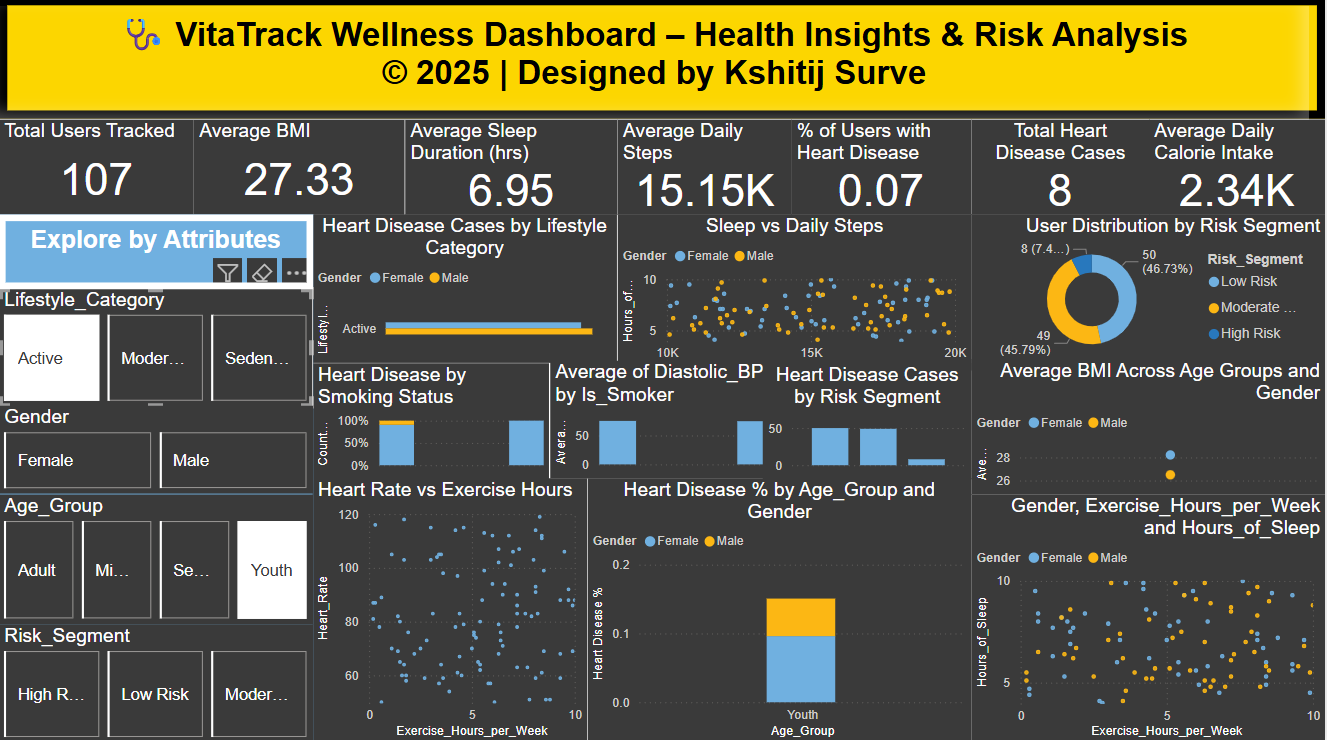

The page's visual inventory and layout, read from the dashboard file:
{"tool":"powerbi","page":{"name":"Page 1","canvas":[1280,720],"ordinal":0},"visuals":[{"type":"card","title":"Total Users Tracked","fields":{"Values":["health_activity_data.Total Users"]},"box":[0,118.3,188.3,91.7],"z":0},{"type":"card","title":"Average BMI","fields":{"Values":["health_activity_data.Average BMI"]},"box":[188.3,118.3,203.3,91.7],"z":1000},{"type":"card","title":"Average Sleep Duration (hrs)","fields":{"Values":["health_activity_data.Average Sleep"]},"box":[391.7,118.3,205,91.7],"z":2000},{"type":"card","title":"Average Daily Steps","fields":{"Values":["health_activity_data.Average Steps"]},"box":[596.7,118.3,168.3,91.7],"z":3000},{"type":"card","title":"Total Heart Disease Cases","fields":{"Values":["health_activity_data.Heart Disease Cases"]},"box":[938.3,118.3,171.7,91.7],"z":4000},{"type":"card","title":"% of Users with Heart Disease","fields":{"Values":["health_activity_data.Heart Disease %"]},"box":[765,118.3,173.3,91.7],"z":5000},{"type":"card","title":"Average Daily Calorie Intake","fields":{"Values":["health_activity_data.Average Calories"]},"box":[1110,118.3,170,91.7],"z":6000},{"type":"scatterChart","title":"Sleep vs Daily Steps","fields":{"X":["health_activity_data.Daily_Steps"],"Y":["health_activity_data.Hours_of_Sleep"],"Series":["health_activity_data.Gender"]},"box":[596.7,210,341.7,150],"z":7000},{"type":"scatterChart","fields":{"X":["health_activity_data.Exercise_Hours_per_Week"],"Y":["health_activity_data.Hours_of_Sleep"],"Series":["health_activity_data.Gender"]},"box":[938.3,480,341.7,240],"z":8000},{"type":"clusteredBarChart","title":"Heart Disease Cases by Lifestyle Category","fields":{"Series":["health_activity_data.Gender"],"Y":["CountNonNull(health_activity_data.Has_Heart_Disease)"],"Category":["health_activity_data.Lifestyle_Category"]},"box":[303.3,210,293.3,143.3],"z":9000},{"type":"columnChart","fields":{"Y":["health_activity_data.Heart Disease %"],"Category":["health_activity_data.Age_Group"],"Series":["health_activity_data.Gender"]},"box":[568.3,465,370,255],"z":10000},{"type":"hundredPercentStackedColumnChart","title":"Heart Disease by Smoking Status","fields":{"Category":["health_activity_data.Is_Smoker"],"Y":["CountNonNull(health_activity_data.Has_Heart_Disease)"],"Series":["health_activity_data.Has_Heart_Disease"]},"box":[303.3,353.3,228.3,111.7],"z":11000},{"type":"clusteredColumnChart","fields":{"Category":["health_activity_data.Is_Smoker"],"Y":["Avg(health_activity_data.Diastolic_BP)"]},"box":[531.7,351.7,221.7,113.3],"z":13000},{"type":"donutChart","title":"User Distribution by Risk Segment","fields":{"Category":["health_activity_data.Risk_Segment"],"Y":["CountNonNull(health_activity_data.ID)"]},"box":[938.3,210,341.7,143.3],"z":14000},{"type":"lineChart","title":"Average BMI Across Age Groups and Gender","fields":{"Category":["health_activity_data.Age_Group"],"Y":["health_activity_data.Average BMI"],"Series":["health_activity_data.Gender"]},"box":[938.3,350,341.7,130],"z":15000},{"type":"columnChart","title":"Heart Disease Cases by Risk Segment","fields":{"Category":["health_activity_data.Risk_Segment"],"Y":["CountNonNull(health_activity_data.Has_Heart_Disease)"]},"box":[736.7,353.3,201.7,111.7],"z":16000},{"type":"scatterChart","title":"Heart Rate vs Exercise Hours","fields":{"X":["health_activity_data.Exercise_Hours_per_Week"],"Y":["health_activity_data.Heart_Rate"]},"box":[303.3,465,265,255],"z":17000},{"type":"shape","box":[0,210,303.3,510],"z":21500},{"type":"shape","box":[0,0,1280,117.5],"z":22000},{"type":"advancedSlicerVisual","fields":{"Values":["health_activity_data.Lifestyle_Category"]},"box":[0,281.4,302.9,114.3],"z":22500},{"type":"advancedSlicerVisual","fields":{"Values":["health_activity_data.Gender"]},"box":[0,395,303.3,85],"z":23000},{"type":"advancedSlicerVisual","fields":{"Values":["health_activity_data.Age_Group"]},"box":[0,480,302.9,125.7],"z":23500},{"type":"advancedSlicerVisual","fields":{"Values":["health_activity_data.Risk_Segment"]},"box":[0,605.7,302.9,114.3],"z":24000},{"type":"textbox","box":[0,210,303.3,71.7],"z":24501},{"type":"textbox","box":[0,8.3,1265,110],"z":25002}]}

Visuals, with their boxes in screenshot pixels (x1, y1, x2, y2), scaled from the page's 1280x720 canvas onto the 1327x740 screenshot:
"Total Users Tracked" card: 0 122 195 216
"Average BMI" card: 195 122 406 216
"Average Sleep Duration (hrs)" card: 406 122 619 216
"Average Daily Steps" card: 619 122 793 216
"Total Heart Disease Cases" card: 973 122 1151 216
"% of Users with Heart Disease" card: 793 122 973 216
"Average Daily Calorie Intake" card: 1151 122 1326 216
"Sleep vs Daily Steps" scatterChart: 619 216 973 370
scatterChart - health_activity_data.Exercise_Hours_per_Week x health_activity_data.Hours_of_Sleep: 973 493 1326 739
"Heart Disease Cases by Lifestyle Category" clusteredBarChart: 314 216 619 363
columnChart - health_activity_data.Heart Disease % x health_activity_data.Age_Group: 589 478 973 739
"Heart Disease by Smoking Status" hundredPercentStackedColumnChart: 314 363 551 478
clusteredColumnChart - health_activity_data.Is_Smoker x Avg(health_activity_data.Diastolic_BP): 551 361 781 478
"User Distribution by Risk Segment" donutChart: 973 216 1326 363
"Average BMI Across Age Groups and Gender" lineChart: 973 360 1326 493
"Heart Disease Cases by Risk Segment" columnChart: 764 363 973 478
"Heart Rate vs Exercise Hours" scatterChart: 314 478 589 739
shape: 0 216 314 739
shape: 0 0 1326 121
advancedSlicerVisual - health_activity_data.Lifestyle_Category: 0 289 314 407
advancedSlicerVisual - health_activity_data.Gender: 0 406 314 493
advancedSlicerVisual - health_activity_data.Age_Group: 0 493 314 623
advancedSlicerVisual - health_activity_data.Risk_Segment: 0 623 314 739
textbox: 0 216 314 290
textbox: 0 9 1311 122
